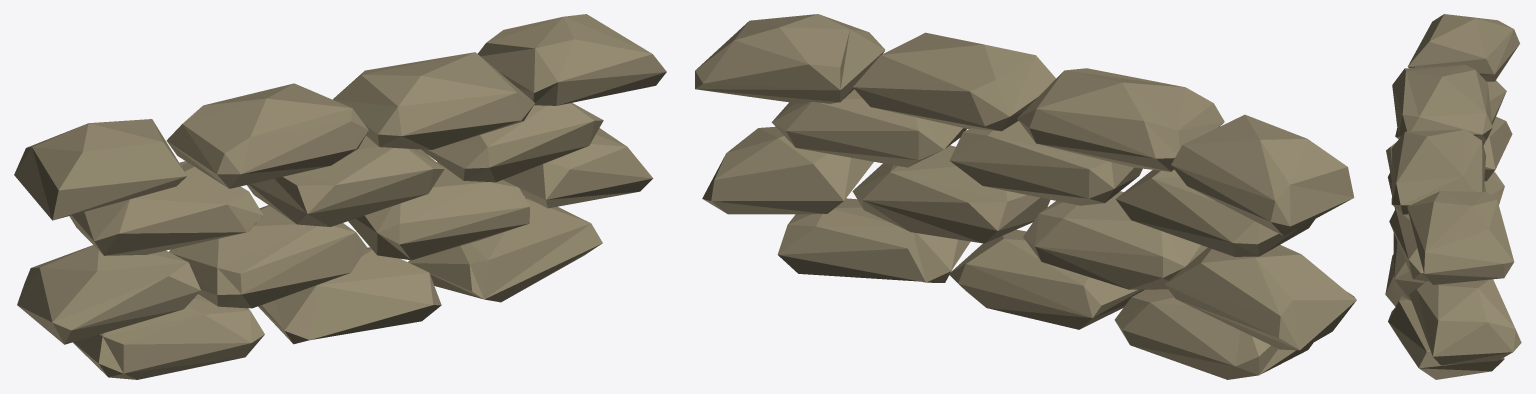
The model's file is sack_trench_lod.glb.
3 renders of one model, left to right at view 1: azimuth 30°, elevation 25°; view 2: azimuth 150°, elevation 25°; view 3: azimuth 270°, elevation 25°, orthographic. The views are drawn at different scales.
Parts seen in each view (by area): view 1: SackTrench; view 2: SackTrench; view 3: SackTrench.
Boxes of the visible parts, x1=… form: SackTrench: x1=14, y1=14, x2=666, y2=379; SackTrench: x1=695, y1=14, x2=1356, y2=379; SackTrench: x1=1385, y1=14, x2=1521, y2=379.
Bounding box in the file's own units: 3.13 × 1.19 × 0.7645.
